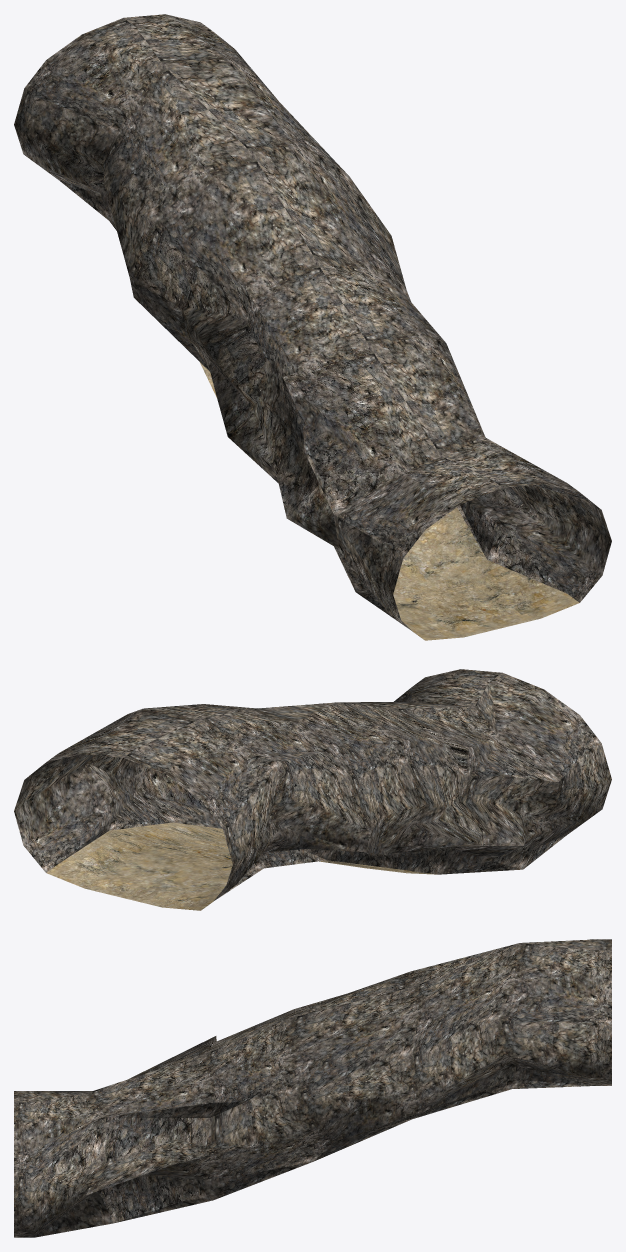
The model's file is pir_m_are_cav_hallNarrowDescend.fbx.
The picture shows the model from 3 angles, top to bottom: view 1: azimuth 30°, elevation 25°; view 2: azimuth 150°, elevation 25°; view 3: azimuth 270°, elevation 25°; orthographic projection. The views are drawn at different scales.
Parts seen in each view (by area): view 1: hallNarrowDescend_wall, hallNarrowDescend_floor; view 2: hallNarrowDescend_wall, hallNarrowDescend_floor; view 3: hallNarrowDescend_wall.
Part boxes in pixels (x1=…): hallNarrowDescend_wall: x1=14, y1=14, x2=611, y2=631; hallNarrowDescend_floor: x1=200, y1=362, x2=579, y2=640; hallNarrowDescend_wall: x1=14, y1=669, x2=611, y2=901; hallNarrowDescend_floor: x1=46, y1=822, x2=436, y2=910; hallNarrowDescend_wall: x1=14, y1=939, x2=611, y2=1237.
Size of the model in its own units: 5425 by 7270 by 15000.
Materials: 2 (2 with a texture image).
